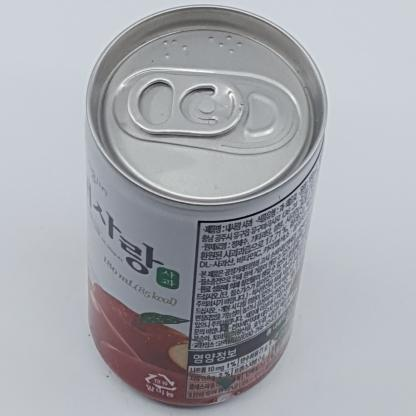-------180ML: (84, 4, 328, 406)
